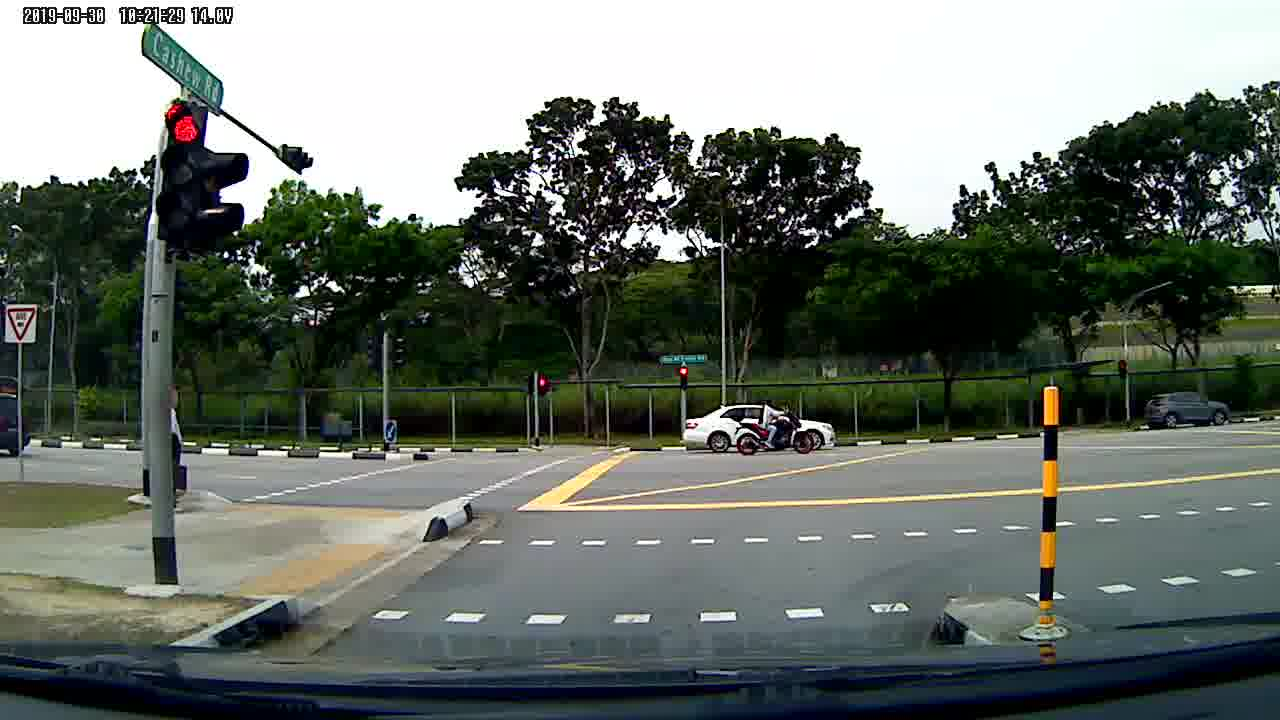car: (678, 401, 837, 448), (1144, 391, 1234, 429)
